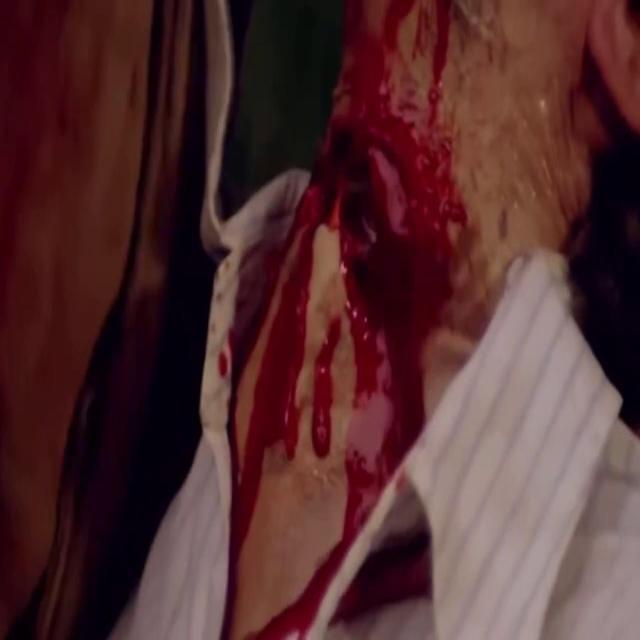flood: (233, 122, 443, 640)
